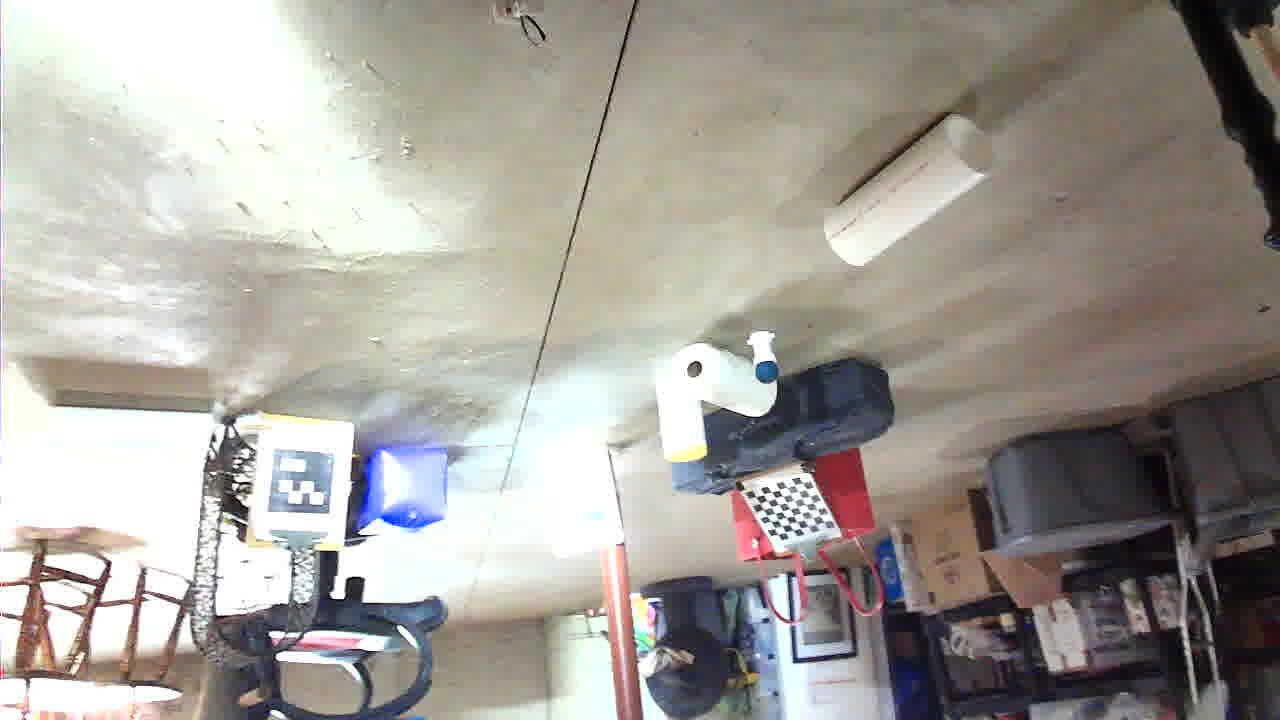coral: (291, 452, 456, 605)
